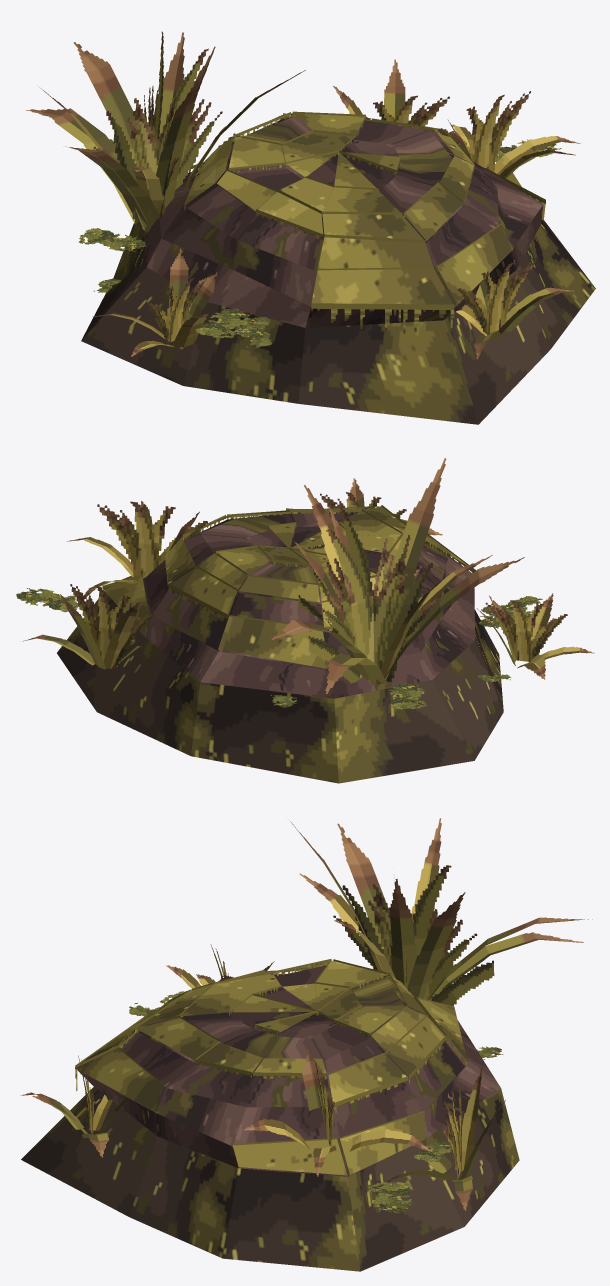
The model's file is SM_SW01_HummockFlat.fbx.
3 renders of one model, top to bottom at view 1: azimuth 30°, elevation 25°; view 2: azimuth 150°, elevation 25°; view 3: azimuth 270°, elevation 25°, orthographic. The views are drawn at different scales.
Parts seen in each view (by area): view 1: SW01d_Mud, SW01d_Plants, SW01d_Peat, SW01d_Moss; view 2: SW01d_Mud, SW01d_Plants, SW01d_Peat, SW01d_Moss; view 3: SW01d_Mud, SW01d_Plants, SW01d_Peat, SW01d_Moss.
Part boxes in pixels (x1,y1,x2,y2): SW01d_Mud: [81, 219, 595, 424]; SW01d_Plants: [25, 31, 580, 359]; SW01d_Peat: [143, 117, 543, 327]; SW01d_Moss: [185, 113, 545, 305]; SW01d_Mud: [57, 591, 503, 783]; SW01d_Plants: [16, 458, 594, 709]; SW01d_Peat: [143, 512, 475, 698]; SW01d_Moss: [102, 506, 474, 668]; SW01d_Mud: [21, 1087, 519, 1271]; SW01d_Plants: [20, 818, 592, 1213]; SW01d_Peat: [77, 965, 500, 1176]; SW01d_Moss: [75, 960, 467, 1175].
Bounding box in the file's own units: 1.84 × 0.9355 × 1.77.
